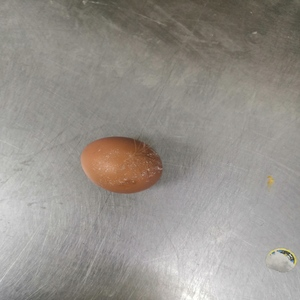brown egg: (80, 136, 163, 194)
